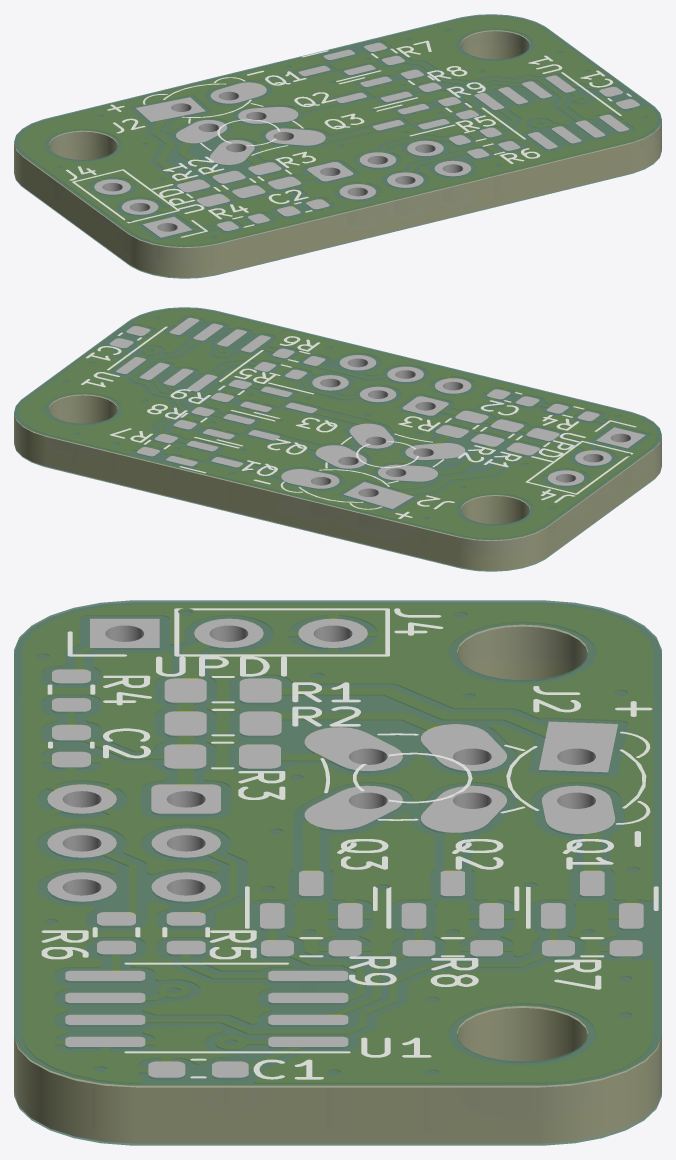
File: 3ch-pwm-sao-badge.glb
3 renders of one model, top to bottom at view 1: azimuth 30°, elevation 25°; view 2: azimuth 150°, elevation 25°; view 3: azimuth 270°, elevation 25°, orthographic. The views are drawn at different scales.
Visible parts, largest first — view 1: =>[0:1:1:7], =>[0:1:1:2], =>[0:1:1:9], =>[0:1:1:5]; view 2: =>[0:1:1:7], =>[0:1:1:2], =>[0:1:1:9], =>[0:1:1:5]; view 3: =>[0:1:1:7], =>[0:1:1:2], =>[0:1:1:9], =>[0:1:1:5].
Boxes of the visible parts, x1,y1,x2,y2 form: =>[0:1:1:7]: (14, 14, 661, 278); =>[0:1:1:2]: (19, 17, 656, 245); =>[0:1:1:9]: (14, 16, 661, 277); =>[0:1:1:5]: (66, 40, 631, 260); =>[0:1:1:7]: (14, 307, 661, 571); =>[0:1:1:2]: (19, 310, 656, 538); =>[0:1:1:9]: (14, 309, 661, 570); =>[0:1:1:5]: (81, 326, 636, 518); =>[0:1:1:7]: (14, 600, 661, 1145); =>[0:1:1:2]: (23, 605, 652, 1083); =>[0:1:1:9]: (14, 603, 661, 1143); =>[0:1:1:5]: (41, 608, 658, 1079).
Bounding box in the file's own units: 0.028 × 0.00166 × 0.0158.
4 materials, 4 textured.
